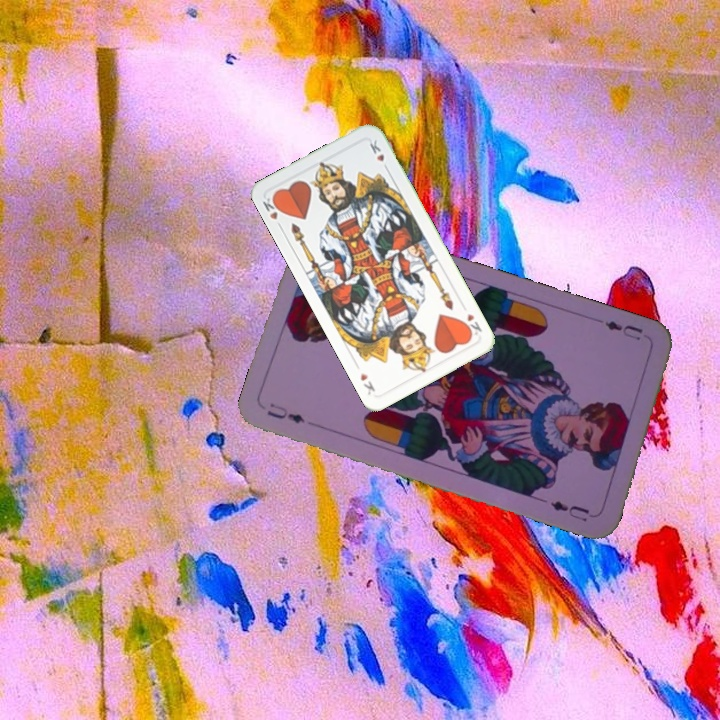EU: (600, 316, 646, 343), (262, 399, 308, 426)
HK: (258, 191, 285, 232), (459, 309, 484, 339)
